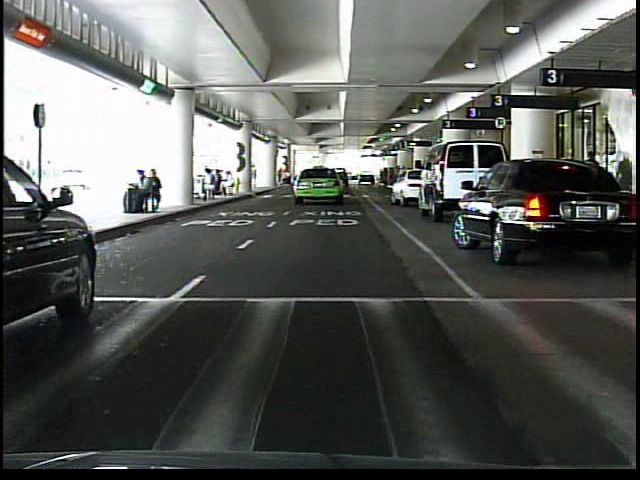person: (577, 148, 601, 210)
